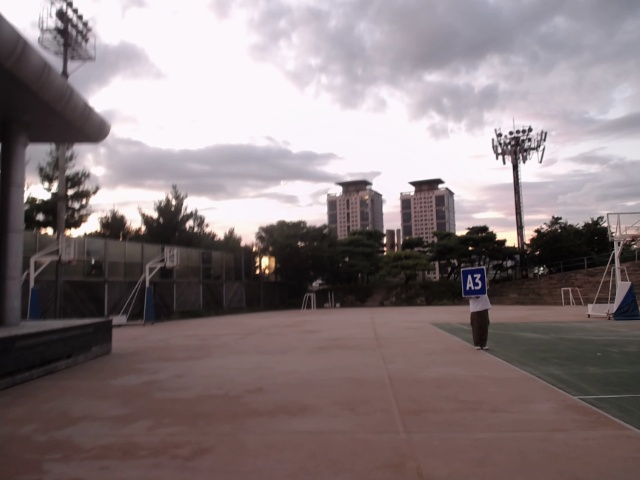delivery_a3: (461, 267, 487, 296)
